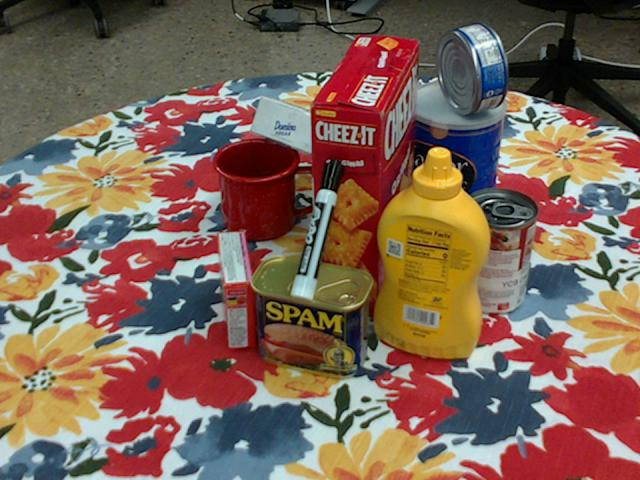cracker_box: (309, 35, 420, 315)
gelatin_box: (218, 230, 255, 348)
large_marker: (291, 157, 343, 299)
master_chef_can: (402, 80, 505, 241)
mug: (213, 138, 325, 241)
mustard_bottle: (373, 146, 491, 359)
potted_meat_can: (251, 255, 374, 378)
sugar_box: (252, 97, 404, 182)
tomato_soup_can: (457, 188, 538, 315)
tuna_fish_can: (434, 22, 508, 114)
